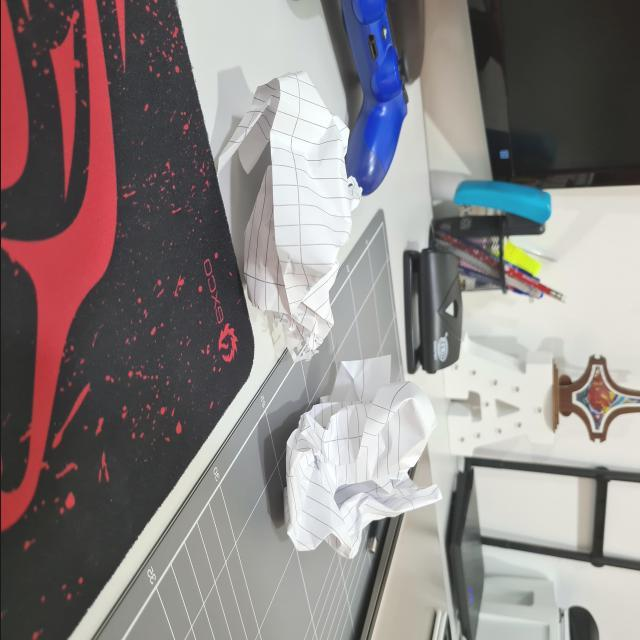Paper: (201, 46, 374, 354), (254, 357, 492, 563)
